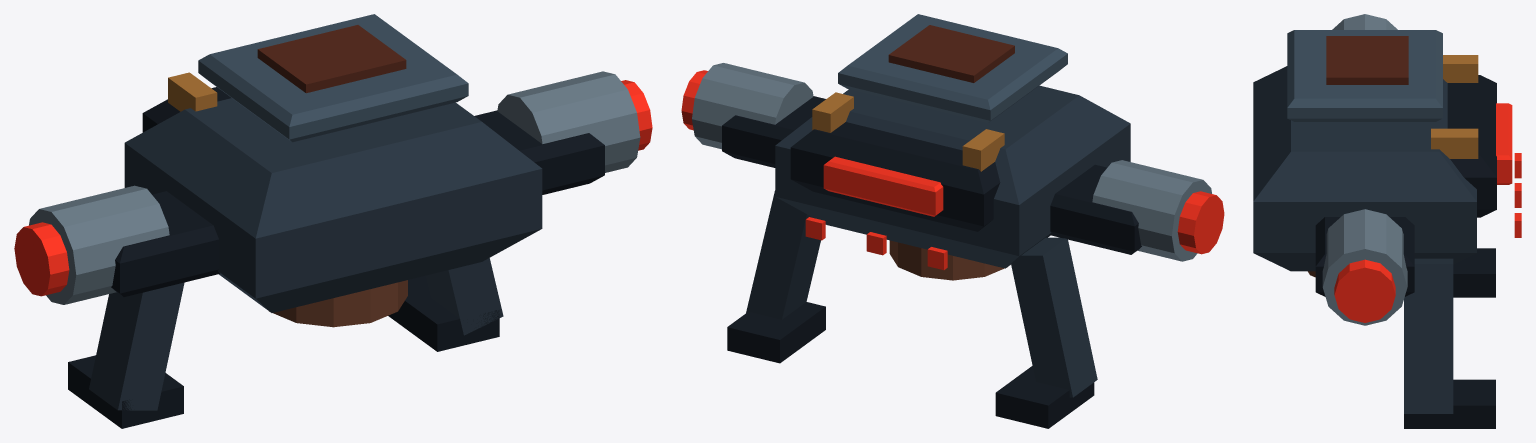
The model's file is reaver_sentry.obj.
3 renders of one model, left to right at view 1: azimuth 30°, elevation 25°; view 2: azimuth 150°, elevation 25°; view 3: azimuth 270°, elevation 25°, orthographic. The views are drawn at different scales.
Visible parts, largest first — view 1: sentry_reaver_drone; view 2: sentry_reaver_drone; view 3: sentry_reaver_drone.
Part boxes in pixels (x1,y1,x2,y2): sentry_reaver_drone: [14, 14, 652, 428]; sentry_reaver_drone: [681, 14, 1224, 428]; sentry_reaver_drone: [1253, 14, 1521, 428].
Bounding box in the file's own units: 2.52 × 1.38 × 1.14.
